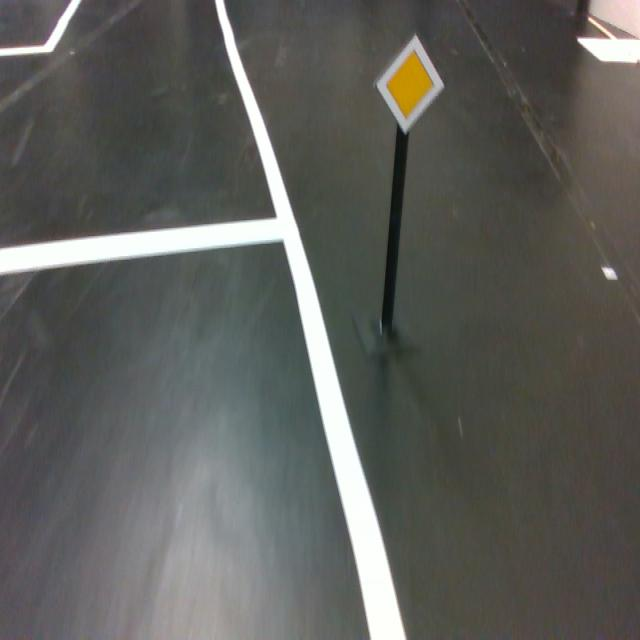priority-sign: (374, 32, 444, 136)
